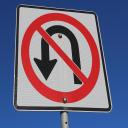NoVirarU: (18, 7, 106, 109)
